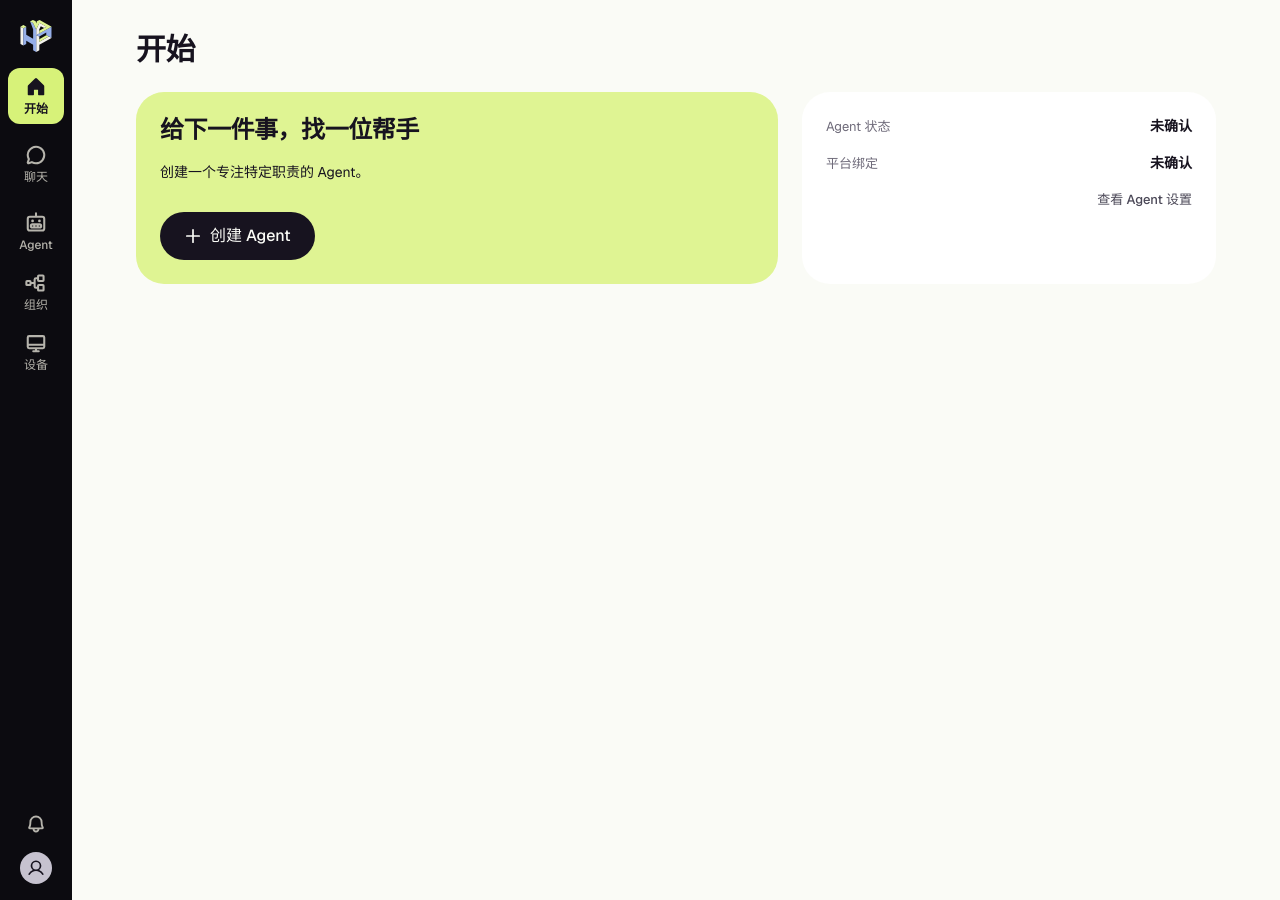
it: agent.secret.provider-list › absent: the create form offers no Key and prints no catalog sentence
Click the button "Agent": x=36, y=232 [8,204,64,260]
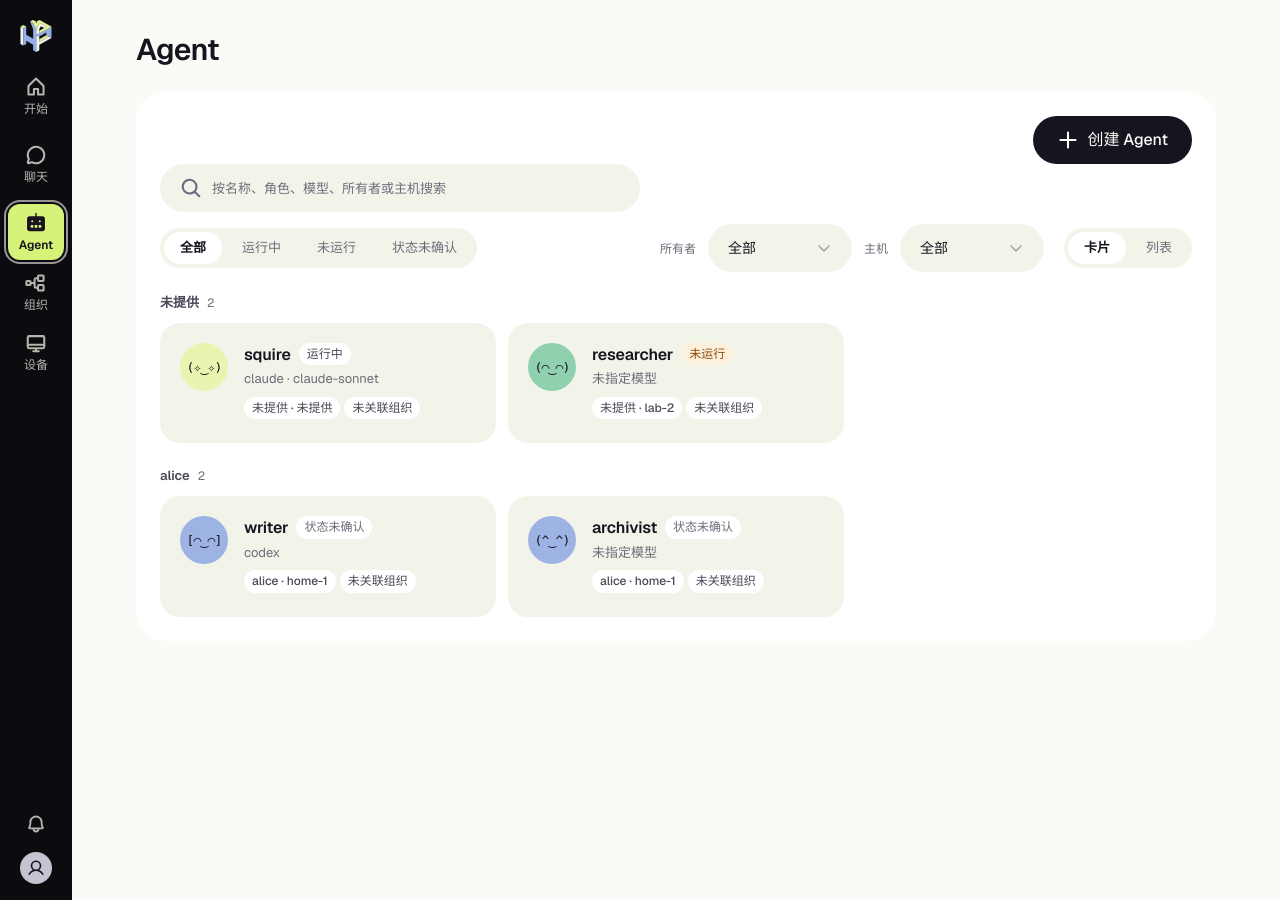
Click the button "创建 Agent": x=1113, y=140 [1033,116,1192,164]
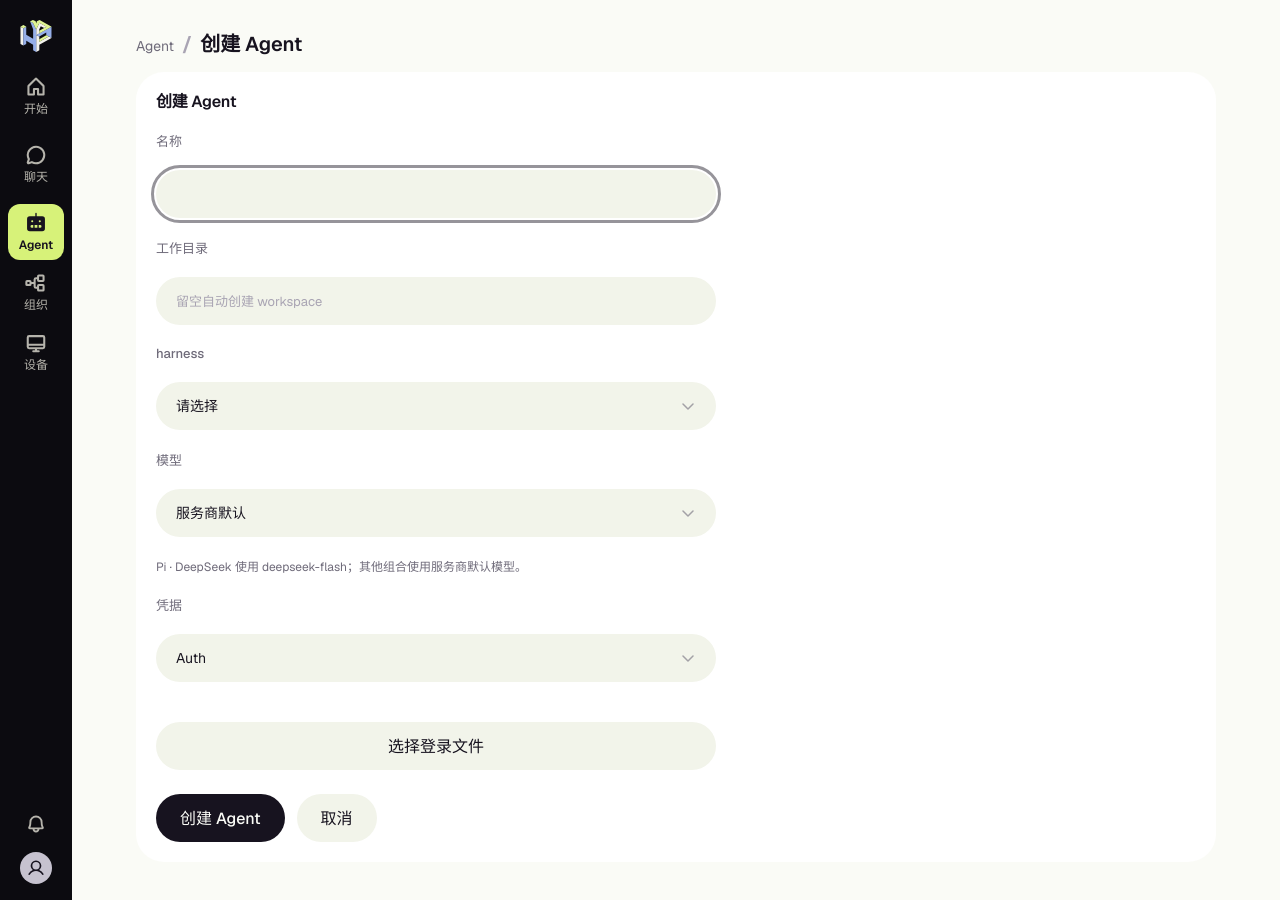
Expected: the heading "创建 Agent" is shown, [156,92,236,111]
